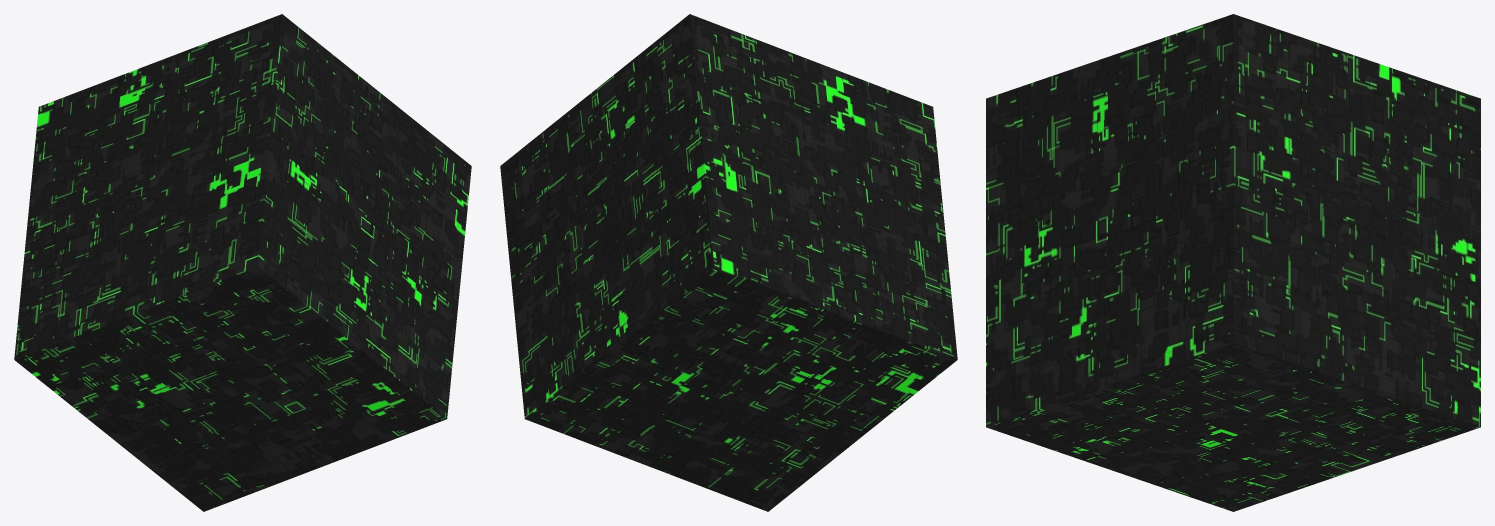
File: borg_cube.glb
3 views of the same model, side by side, from view 1: azimuth 30°, elevation 25°; view 2: azimuth 150°, elevation 25°; view 3: azimuth 270°, elevation 25° (orthographic). The views are drawn at different scales.
Parts seen in each view (by area): view 1: cube_0; view 2: cube_0; view 3: cube_0.
Boxes of the visible parts, box(x1,y1,x2,y2) form: cube_0: box(14, 14, 471, 511); cube_0: box(500, 14, 957, 511); cube_0: box(986, 14, 1480, 511).
Size of the model in its own units: 6.41 by 6.41 by 5.31.
1 material, 1 textured.
